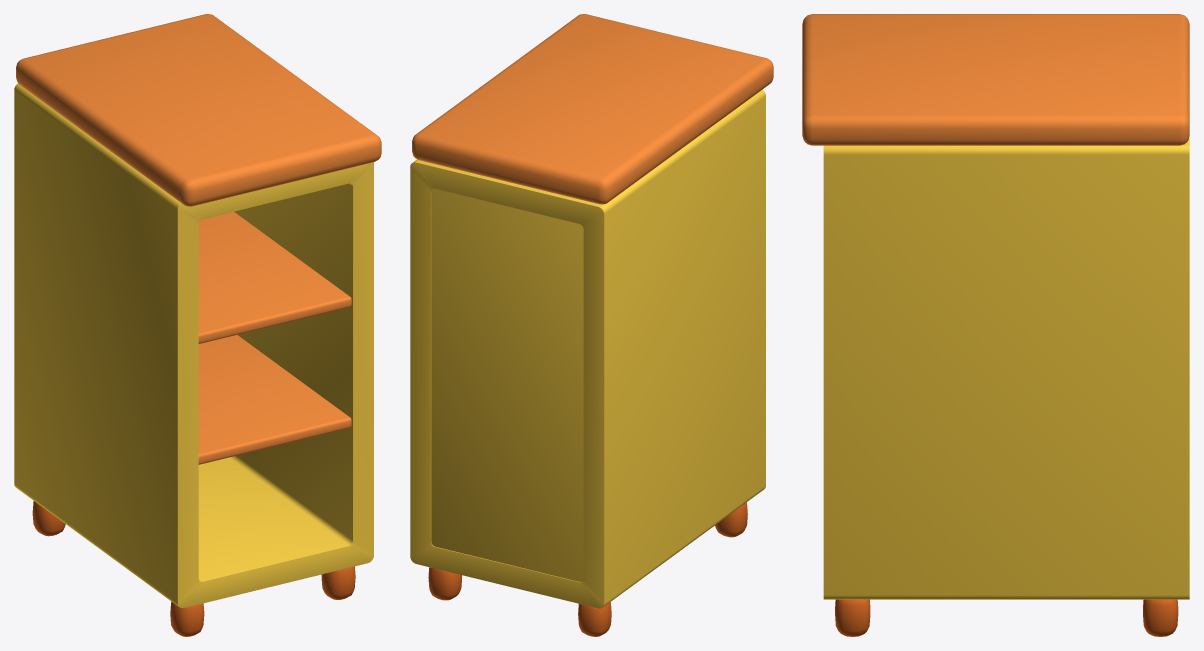
Rendered from nicho_cozinha_moderna.glb.
3 renders of one model, left to right at view 1: azimuth 30°, elevation 25°; view 2: azimuth 150°, elevation 25°; view 3: azimuth 270°, elevation 25°, orthographic. The views are drawn at different scales.
Parts seen in each view (by area): view 1: nicho_cozinha_moderna; view 2: nicho_cozinha_moderna; view 3: nicho_cozinha_moderna.
Boxes of the visible parts, left/top/right/bottom form: nicho_cozinha_moderna: left=14, top=14, right=381, bottom=636; nicho_cozinha_moderna: left=410, top=14, right=773, bottom=636; nicho_cozinha_moderna: left=802, top=14, right=1189, bottom=636.
Bounding box in the file's own units: 0.398 × 0.9 × 0.599.
Materials: 1 (1 with a texture image).
